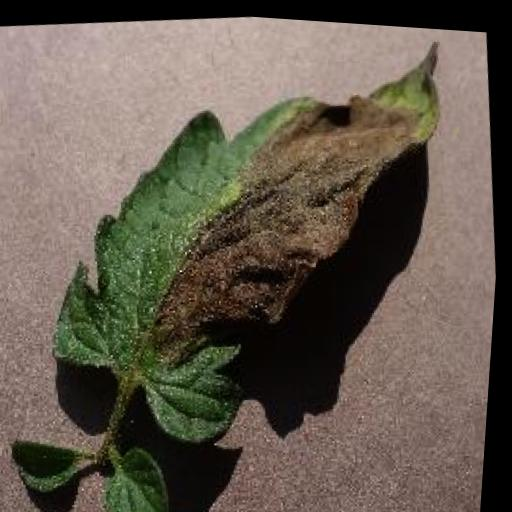Healthy: (103, 440, 180, 512)
Late Blight: (19, 11, 483, 462)
